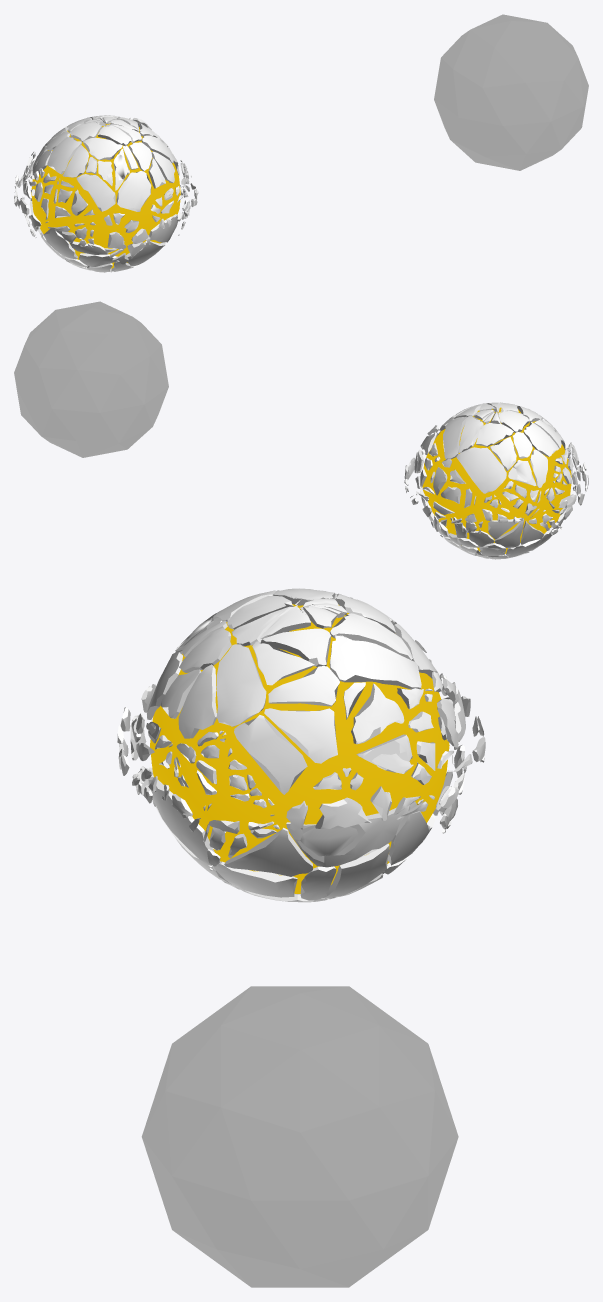
The model's file is Termanation.glb.
The picture shows the model from 3 angles, top to bottom: view 1: azimuth 30°, elevation 25°; view 2: azimuth 150°, elevation 25°; view 3: azimuth 270°, elevation 25°; orthographic projection. The views are drawn at different scales.
Visible parts, largest first — view 1: Icosphere, Sphere, Sphere_cell.085, Sphere_cell.016, Sphere_cell.060, Sphere_cell.073, Sphere_cell.018, Sphere_cell.059, Sphere_cell.031, Sphere_cell.045, Sphere_cell.093, Sphere_cell.086 (+4 smaller); view 2: Icosphere, Sphere, Sphere_cell.056, Sphere_cell.035, Sphere_cell.060, Sphere_cell.052, Sphere_cell.084, Sphere_cell.021, Sphere_cell.002, Sphere_cell.086, Sphere_cell.043, Sphere_cell.048 (+1 smaller); view 3: Icosphere, Sphere, Sphere_cell.035, Sphere_cell.063, Sphere_cell.096, Sphere_cell.012, Sphere_cell.039, Sphere_cell.095, Sphere_cell.008, Sphere_cell.055, Sphere_cell.030_cell.085, Sphere_cell.045 (+13 smaller).
Boxes of the visible parts, left/top/right/bottom form: Icosphere: left=434, top=14, right=588, bottom=170; Sphere: left=31, top=123, right=180, bottom=268; Sphere_cell.085: left=116, top=171, right=151, bottom=211; Sphere_cell.016: left=76, top=174, right=115, bottom=211; Sphere_cell.060: left=47, top=137, right=81, bottom=174; Sphere_cell.073: left=83, top=137, right=122, bottom=160; Sphere_cell.018: left=62, top=145, right=88, bottom=177; Sphere_cell.059: left=43, top=229, right=77, bottom=259; Sphere_cell.031: left=126, top=241, right=165, bottom=266; Sphere_cell.045: left=149, top=214, right=177, bottom=242; Sphere_cell.093: left=129, top=142, right=152, bottom=171; Sphere_cell.086: left=69, top=121, right=102, bottom=141; Icosphere: left=14, top=301, right=168, bottom=457; Sphere: left=422, top=407, right=571, bottom=553; Sphere_cell.056: left=456, top=447, right=506, bottom=493; Sphere_cell.035: left=443, top=416, right=466, bottom=459; Sphere_cell.060: left=523, top=422, right=559, bottom=456; Sphere_cell.052: left=476, top=423, right=513, bottom=446; Sphere_cell.084: left=458, top=415, right=483, bottom=452; Sphere_cell.021: left=490, top=437, right=516, bottom=470; Sphere_cell.002: left=530, top=449, right=547, bottom=487; Sphere_cell.086: left=498, top=410, right=529, bottom=432; Sphere_cell.043: left=494, top=518, right=524, bottom=547; Sphere_cell.048: left=512, top=432, right=532, bottom=458; Icosphere: left=141, top=986, right=458, bottom=1287; Sphere: left=150, top=604, right=449, bottom=893; Sphere_cell.035: left=329, top=635, right=421, bottom=689; Sphere_cell.063: left=216, top=644, right=266, bottom=726; Sphere_cell.096: left=234, top=715, right=307, bottom=794; Sphere_cell.012: left=264, top=708, right=337, bottom=763; Sphere_cell.039: left=286, top=805, right=409, bottom=867; Sphere_cell.095: left=224, top=827, right=312, bottom=876; Sphere_cell.008: left=268, top=666, right=339, bottom=706; Sphere_cell.055: left=178, top=664, right=216, bottom=738; Sphere_cell.030_cell.085: left=351, top=683, right=404, bottom=744; Sphere_cell.045: left=148, top=776, right=214, bottom=865.
Size of the model in its own units: 8.02 by 2.02 by 2.32.
